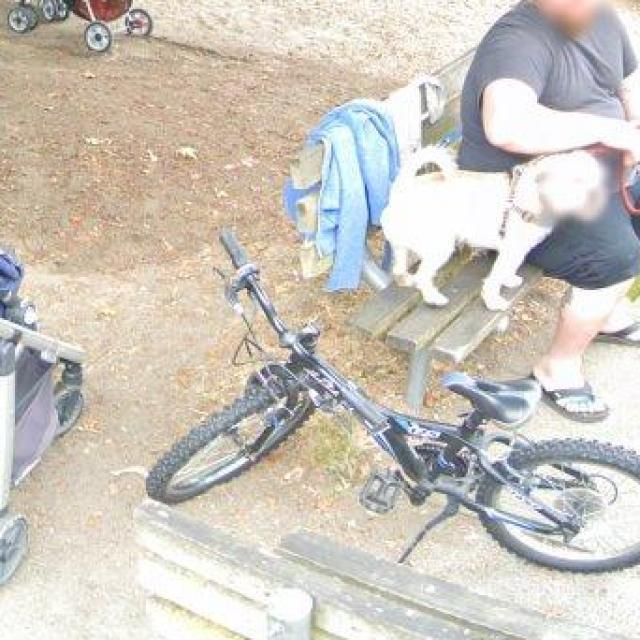bicycle: (147, 238, 640, 575)
